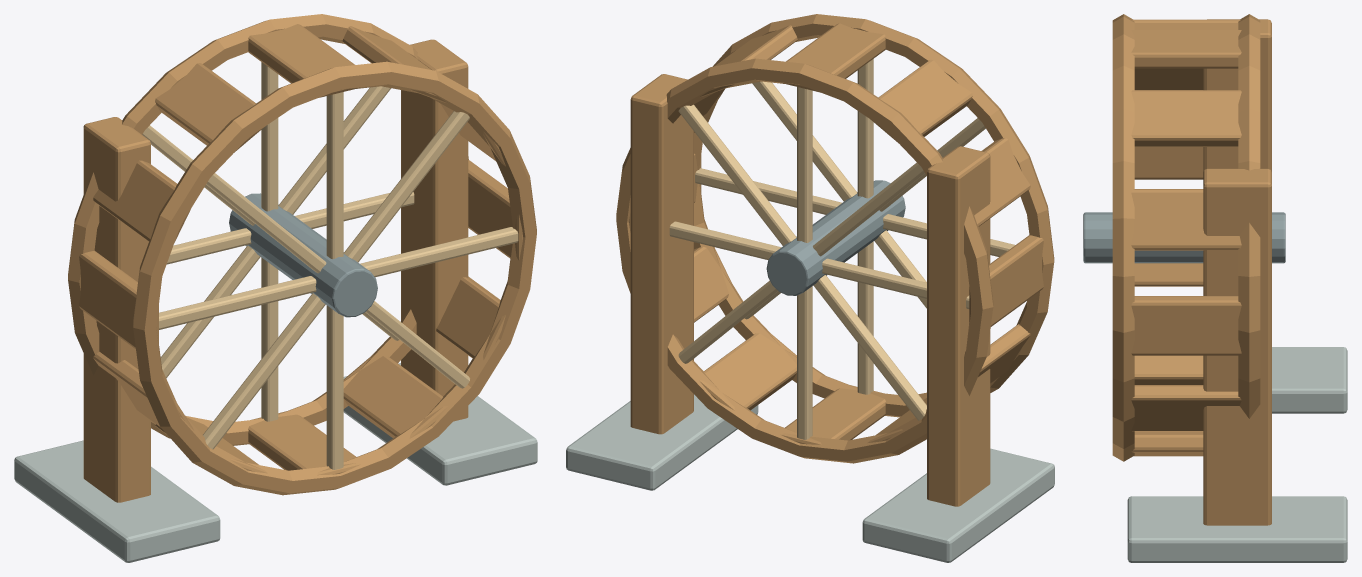
File: S097_waterwheel.glb
The picture shows the model from 3 angles, left to right: view 1: azimuth 30°, elevation 25°; view 2: azimuth 150°, elevation 25°; view 3: azimuth 270°, elevation 25°; orthographic projection. The views are drawn at different scales.
Parts seen in each view (by area): view 1: wheel_rim, waterwheel_support.001, waterwheel_support, waterwheel_support_foot, wheel_rim.001, waterwheel_support_foot.001, waterwheel_hub, water_paddle.010, water_paddle.004, water_paddle.006, water_paddle.009, water_paddle.003 (+22 smaller); view 2: waterwheel_support.001, wheel_rim.001, waterwheel_support, wheel_rim, waterwheel_support_foot, waterwheel_support_foot.001, waterwheel_hub, water_paddle.010, water_paddle.004, water_paddle.006, water_paddle.009, water_paddle.003 (+19 smaller); view 3: waterwheel_support.001, waterwheel_support_foot.001, wheel_rim, wheel_rim.001, water_paddle, water_paddle.002, waterwheel_support_foot, water_paddle.001, water_paddle.003, water_paddle.011, waterwheel_support, waterwheel_hub (+6 smaller).
Part boxes in pixels (bbox=[...]): wheel_rim: bbox=[133, 61, 536, 495]; waterwheel_support.001: bbox=[401, 39, 468, 421]; waterwheel_support: bbox=[83, 117, 150, 502]; waterwheel_support_foot: bbox=[14, 440, 220, 562]; wheel_rim.001: bbox=[68, 14, 468, 445]; waterwheel_support_foot.001: bbox=[343, 363, 537, 485]; waterwheel_hub: bbox=[229, 193, 377, 317]; water_paddle.010: bbox=[343, 353, 447, 438]; water_paddle.004: bbox=[155, 63, 263, 152]; water_paddle.006: bbox=[79, 251, 158, 348]; water_paddle.009: bbox=[248, 411, 360, 475]; water_paddle.003: bbox=[248, 24, 359, 97]; waterwheel_support.001: bbox=[630, 74, 693, 434]; wheel_rim.001: bbox=[616, 58, 993, 463]; waterwheel_support: bbox=[927, 146, 990, 506]; wheel_rim: bbox=[694, 14, 1054, 417]; waterwheel_support_foot: bbox=[862, 448, 1054, 562]; waterwheel_support_foot.001: bbox=[566, 394, 758, 490]; waterwheel_hub: bbox=[766, 180, 905, 295]; water_paddle.010: bbox=[699, 331, 796, 410]; water_paddle.004: bbox=[870, 59, 972, 143]; water_paddle.006: bbox=[969, 235, 1043, 326]; water_paddle.009: bbox=[780, 385, 885, 444]; water_paddle.003: bbox=[782, 23, 885, 92]; waterwheel_support.001: bbox=[1203, 168, 1271, 525]; waterwheel_support_foot.001: bbox=[1127, 496, 1347, 562]; wheel_rim: bbox=[1112, 14, 1134, 461]; wheel_rim.001: bbox=[1238, 14, 1260, 418]; water_paddle: bbox=[1131, 296, 1241, 355]; water_paddle.002: bbox=[1131, 90, 1241, 146]; waterwheel_support_foot: bbox=[1272, 347, 1347, 413]; water_paddle.001: bbox=[1131, 189, 1241, 250]; water_paddle.003: bbox=[1131, 30, 1241, 68]; water_paddle.011: bbox=[1131, 385, 1241, 431]; waterwheel_support: bbox=[1203, 19, 1271, 171]; waterwheel_hub: bbox=[1083, 212, 1285, 263].
Bounding box in the file's own units: 2.34 × 2.43 × 1.34.
